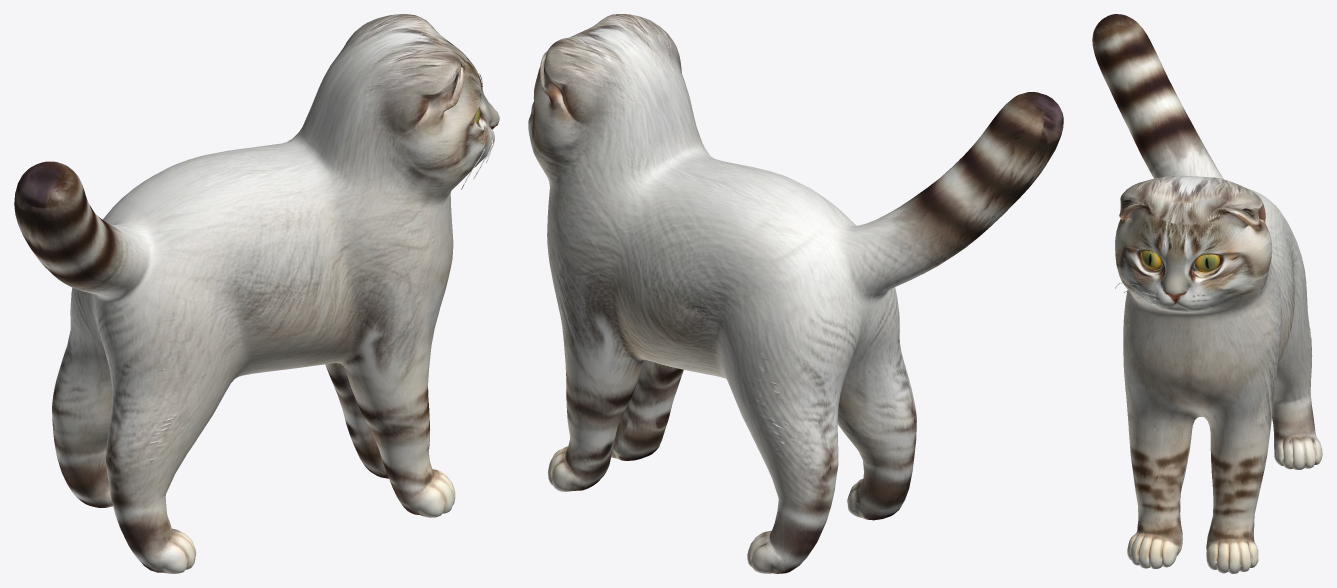
The model's file is LALEO.glb.
3 renders of one model, left to right at view 1: azimuth 30°, elevation 25°; view 2: azimuth 150°, elevation 25°; view 3: azimuth 270°, elevation 25°, orthographic. The views are drawn at different scales.
Parts seen in each view (by area): view 1: fit; view 2: fit; view 3: fit.
Boxes of the visible parts, <box> form: fit: <box>14,14,499,573</box>; fit: <box>528,14,1063,573</box>; fit: <box>1092,14,1322,573</box>.
Bounding box in the file's own units: 1.17 × 0.9995 × 0.5448.
Materials: 1 (1 with a texture image).
